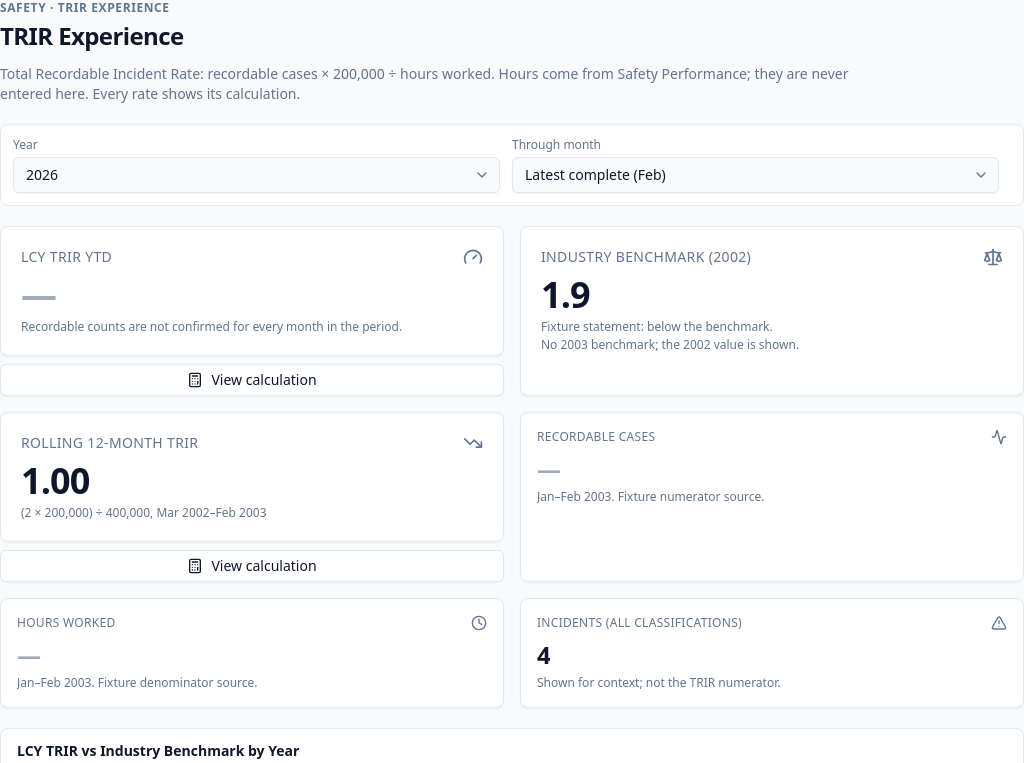
Test: TRIR Experience › shows an unavailable TRIR with its reason, never as zero
Click the button "View calculation" below "LCY TRIR YTD" at (252, 380), box 0,364 -> 504,396
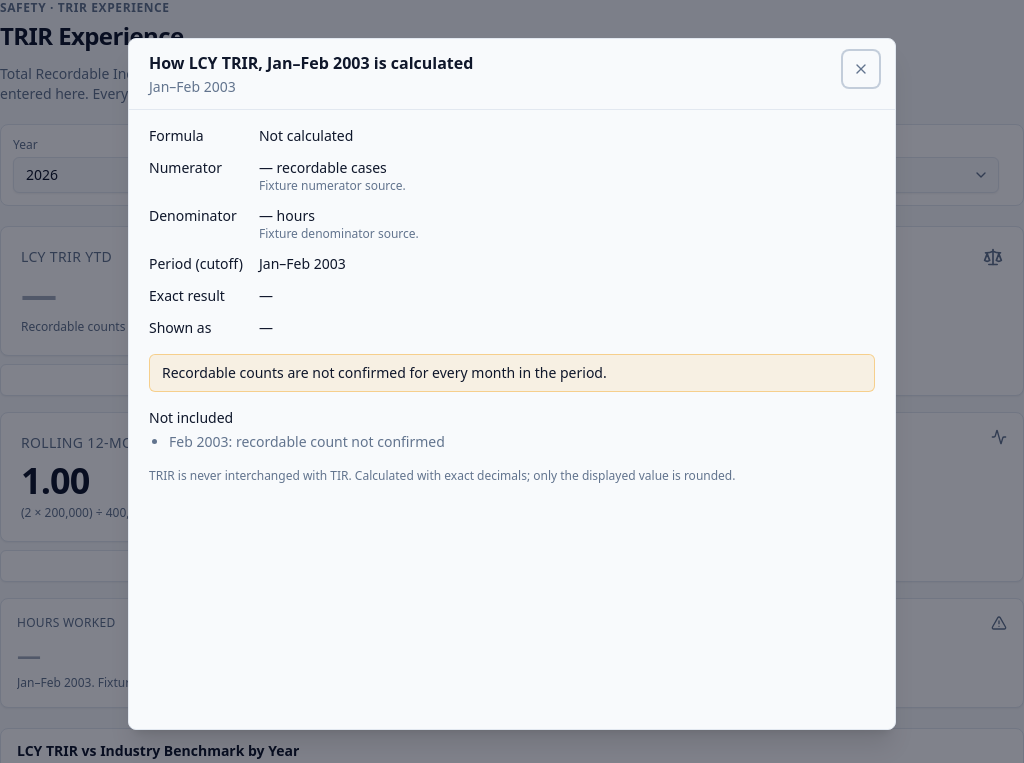
Expected: the dialog shows "Feb 2003: recordable count not confirmed"
